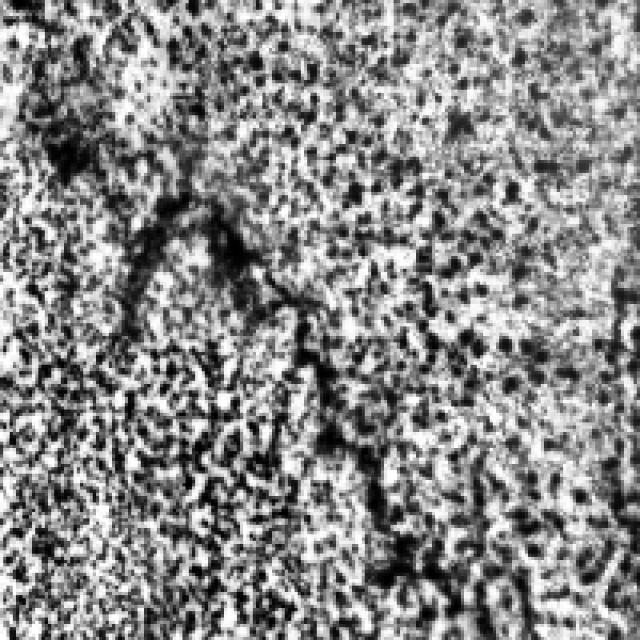Rolled_in_Scale: (227, 9, 563, 624)
